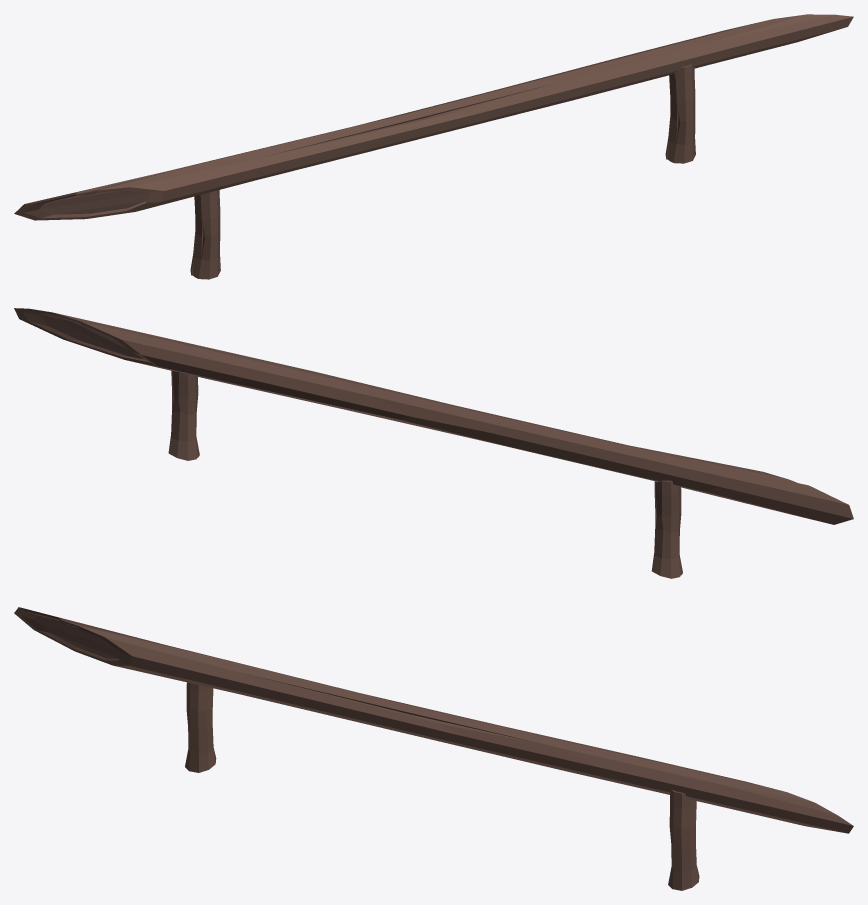
Rendered from event.fbx.
The picture shows the model from 3 angles, top to bottom: view 1: azimuth 30°, elevation 25°; view 2: azimuth 150°, elevation 25°; view 3: azimuth 330°, elevation 25°; orthographic projection.
Parts seen in each view (by area): view 1: WoodLog.002, WoodLog.001, WoodLog; view 2: WoodLog.002, WoodLog, WoodLog.001; view 3: WoodLog.002, WoodLog.001, WoodLog.
Boxes of the visible parts, <box> form: WoodLog.002: <box>14,14,853,220</box>; WoodLog.001: <box>665,64,695,163</box>; WoodLog: <box>190,190,220,279</box>; WoodLog.002: <box>14,308,853,524</box>; WoodLog: <box>651,480,682,578</box>; WoodLog.001: <box>168,371,199,460</box>; WoodLog.002: <box>14,607,853,833</box>; WoodLog.001: <box>668,790,699,890</box>; WoodLog: <box>185,682,216,772</box>.
Bounding box in the file's own units: 4330 × 579 × 214.
